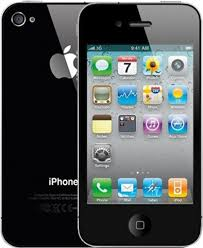iphone: (76, 1, 200, 248)
iphone4: (76, 1, 200, 247)
